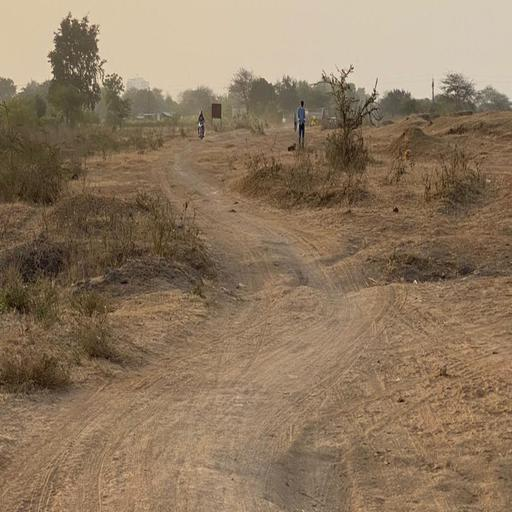vehicle_track: (0, 143, 393, 512)
